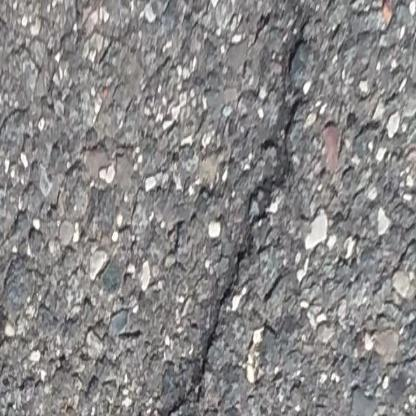Cracks: (148, 0, 319, 416)
